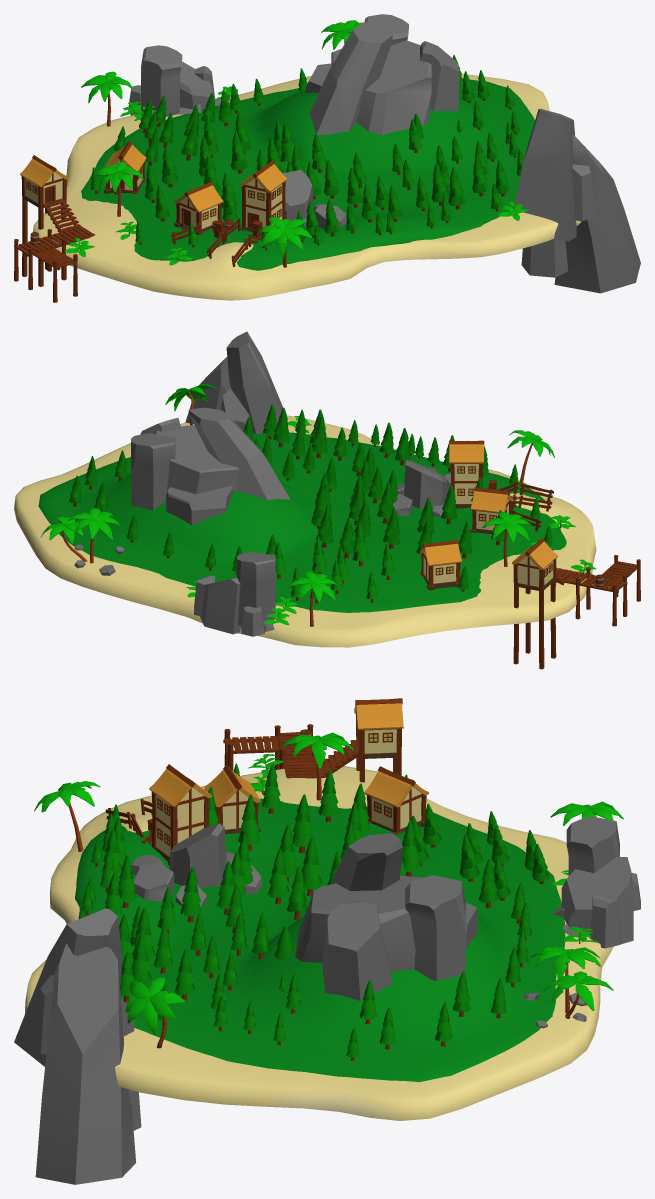
The model's file is Island_starter.fbx.
3 renders of one model, top to bottom at view 1: azimuth 30°, elevation 25°; view 2: azimuth 150°, elevation 25°; view 3: azimuth 270°, elevation 25°, orthographic. The views are drawn at different scales.
Parts seen in each view (by area): view 1: island_starter; view 2: island_starter; view 3: island_starter.
Boxes of the visible parts, bbox=[...] form: island_starter: bbox=[14, 14, 640, 302]; island_starter: bbox=[14, 331, 640, 669]; island_starter: bbox=[14, 698, 640, 1184].
Size of the model in its own units: 15707 by 5270 by 11495.
